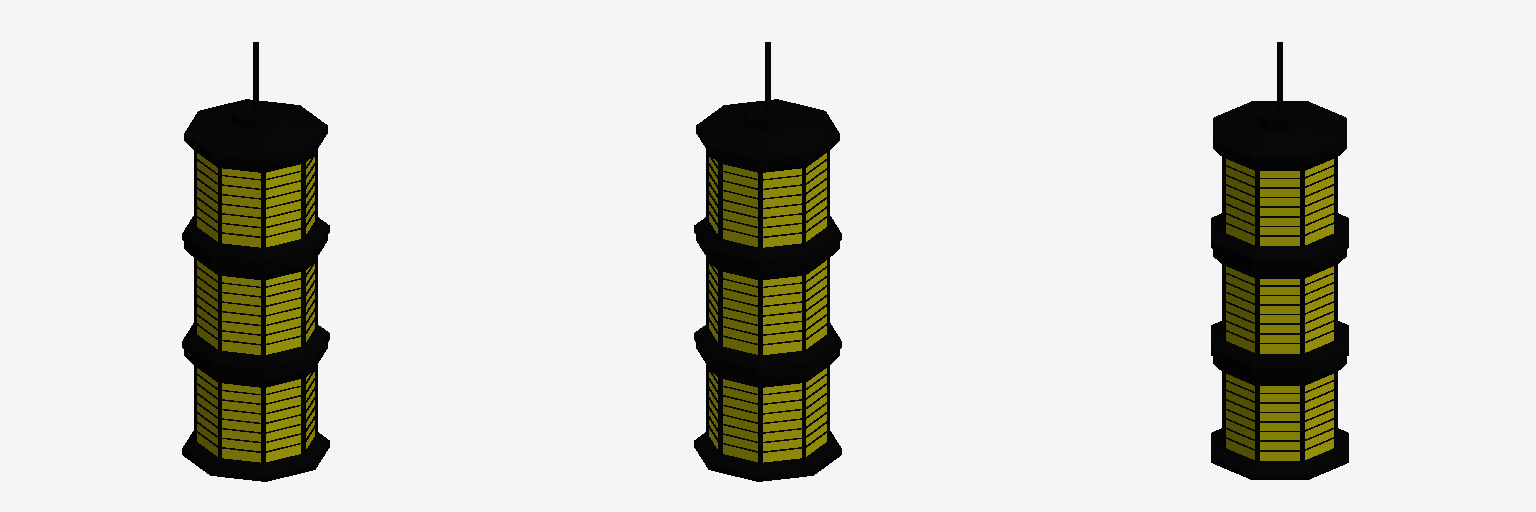
The model's file is Pagoda.obj.
The picture shows the model from 3 angles: view 1: azimuth 30°, elevation 25°; view 2: azimuth 150°, elevation 25°; view 3: azimuth 270°, elevation 25°; orthographic projection.
Visible parts, largest first — view 1: Cylinder.002_Cylinder.018, Cylinder.001_Cylinder.017, Cylinder_Cylinder.016; view 2: Cylinder.002_Cylinder.018, Cylinder.001_Cylinder.017, Cylinder_Cylinder.016; view 3: Cylinder.002_Cylinder.018, Cylinder.001_Cylinder.017, Cylinder_Cylinder.016.
Boxes of the visible parts, x1=… form: Cylinder.002_Cylinder.018: x1=182, y1=42, x2=329, y2=266; Cylinder.001_Cylinder.017: x1=182, y1=236, x2=329, y2=374; Cylinder_Cylinder.016: x1=182, y1=343, x2=329, y2=481; Cylinder.002_Cylinder.018: x1=694, y1=42, x2=841, y2=266; Cylinder.001_Cylinder.017: x1=694, y1=236, x2=841, y2=374; Cylinder_Cylinder.016: x1=694, y1=343, x2=841, y2=481; Cylinder.002_Cylinder.018: x1=1211, y1=42, x2=1348, y2=264; Cylinder.001_Cylinder.017: x1=1211, y1=249, x2=1348, y2=372; Cylinder_Cylinder.016: x1=1211, y1=357, x2=1348, y2=479.
Size of the model in its own units: 10.14 by 34.51 by 10.14.